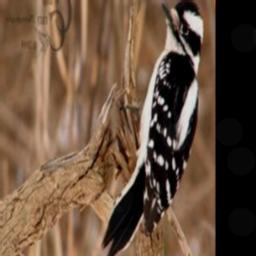Woodpecker: (100, 0, 205, 256)
